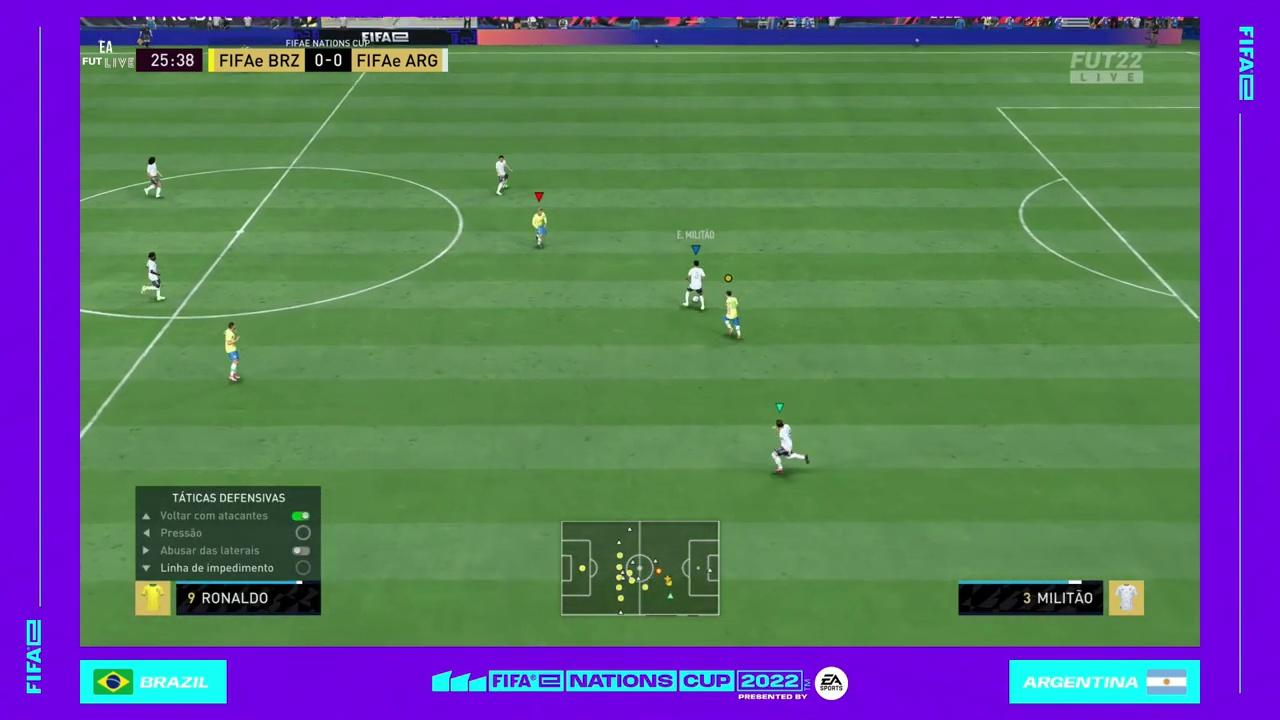scoreboard: (209, 44, 448, 72)
timestamp: (134, 48, 201, 72)
